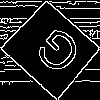G: (26, 24, 85, 84)
